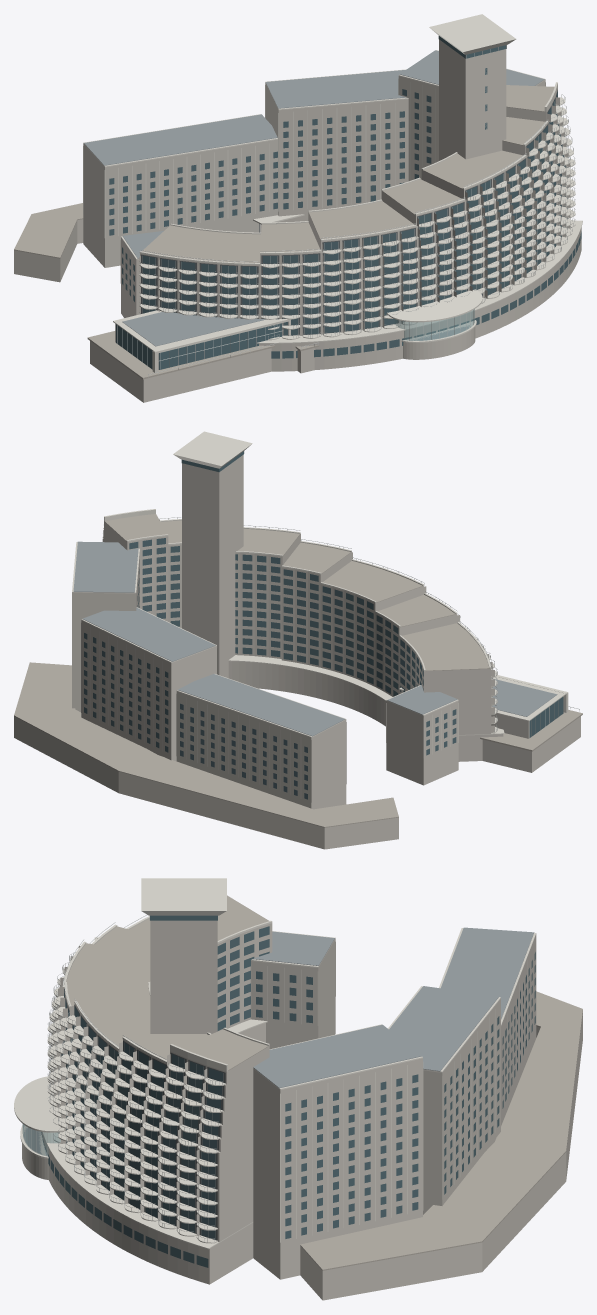
Rendered from hilton-tokyo-odaiba.glb.
3 views of the same model, one above another, from view 1: azimuth 30°, elevation 25°; view 2: azimuth 150°, elevation 25°; view 3: azimuth 270°, elevation 25° (orthographic). The views are drawn at different scales.
Parts seen in each view (by area): view 1: Main_Curved_Hotel | Pale balcony slab and crown, Main_Curved_Hotel | Opaque blue gray guest glazing, Long_Low_Return | Warm ivory facade, Main_Curved_Hotel | Terrace stone, Middle_Rear_Bend | Warm ivory facade, Main_Curved_Hotel | Warm ivory facade, Main_Curved_Hotel | Light railing and window frames, Symbol_Tower | Warm ivory facade, Main_Curved_Hotel | Recessed balcony shadow, Curved_Podium | Warm ivory facade, Low_Podium_and_Terraces | Warm ivory facade, Long_Low_Return | Gray roof metal (+24 smaller); view 2: Main_Curved_Hotel | Warm ivory facade, Rear_Low_Podium | Terrace stone, Long_Low_Return | Warm ivory facade, Symbol_Tower | Warm ivory facade, Main_Curved_Hotel | Opaque blue gray guest glazing, Main_Curved_Hotel | Terrace stone, Middle_Rear_Bend | Warm ivory facade, Rear_Low_Podium | Warm ivory facade, Short_Low_End_Junction | Warm ivory facade, Curved_Podium | Warm ivory facade, Long_Low_Return | Gray roof metal, Middle_Rear_Bend | Gray roof metal (+15 smaller); view 3: High_Rear_Junction | Warm ivory facade, Rear_Low_Podium | Terrace stone, Main_Curved_Hotel | Pale balcony slab and crown, Main_Curved_Hotel | Warm ivory facade, Main_Curved_Hotel | Opaque blue gray guest glazing, Main_Curved_Hotel | Terrace stone, Middle_Rear_Bend | Warm ivory facade, Rear_Low_Podium | Warm ivory facade, Symbol_Tower | Warm ivory facade, Curved_Podium | Warm ivory facade, Short_Low_End_Junction | Warm ivory facade, Main_Curved_Hotel | Light railing and window frames (+20 smaller).
Boxes of the visible parts, x1,y1,x2,y2 form: Main_Curved_Hotel | Pale balcony slab and crown: (139, 82, 575, 340); Main_Curved_Hotel | Opaque blue gray guest glazing: (142, 91, 567, 335); Long_Low_Return | Warm ivory facade: (83, 139, 277, 267); Main_Curved_Hotel | Terrace stone: (142, 85, 554, 262); Middle_Rear_Bend | Warm ivory facade: (265, 83, 408, 222); Main_Curved_Hotel | Warm ivory facade: (139, 88, 570, 335); Main_Curved_Hotel | Light railing and window frames: (139, 94, 575, 338); Symbol_Tower | Warm ivory facade: (439, 39, 506, 160); Main_Curved_Hotel | Recessed balcony shadow: (141, 90, 568, 335); Curved_Podium | Warm ivory facade: (259, 227, 581, 371); Low_Podium_and_Terraces | Warm ivory facade: (90, 324, 314, 402); Long_Low_Return | Gray roof metal: (84, 114, 277, 165); Main_Curved_Hotel | Warm ivory facade: (102, 521, 494, 734); Rear_Low_Podium | Terrace stone: (14, 662, 398, 827); Long_Low_Return | Warm ivory facade: (176, 691, 346, 809); Symbol_Tower | Warm ivory facade: (182, 455, 243, 678); Main_Curved_Hotel | Opaque blue gray guest glazing: (129, 538, 423, 696); Main_Curved_Hotel | Terrace stone: (104, 514, 489, 670); Middle_Rear_Bend | Warm ivory facade: (81, 620, 216, 761); Rear_Low_Podium | Warm ivory facade: (14, 716, 398, 849); Short_Low_End_Junction | Warm ivory facade: (386, 701, 458, 785); Curved_Podium | Warm ivory facade: (228, 661, 503, 761); Long_Low_Return | Gray roof metal: (178, 674, 344, 736); Middle_Rear_Bend | Gray roof metal: (82, 608, 215, 661); High_Rear_Junction | Warm ivory facade: (253, 1058, 422, 1279); Rear_Low_Podium | Terrace stone: (300, 991, 582, 1270); Main_Curved_Hotel | Pale balcony slab and crown: (47, 916, 272, 1243); Main_Curved_Hotel | Warm ivory facade: (52, 923, 272, 1241); Main_Curved_Hotel | Opaque blue gray guest glazing: (59, 926, 269, 1239); Main_Curved_Hotel | Terrace stone: (66, 895, 268, 1070); Middle_Rear_Bend | Warm ivory facade: (423, 999, 500, 1214); Rear_Low_Podium | Warm ivory facade: (300, 1011, 582, 1300); Symbol_Tower | Warm ivory facade: (150, 920, 217, 1033); Curved_Podium | Warm ivory facade: (42, 1023, 265, 1284); Short_Low_End_Junction | Warm ivory facade: (251, 939, 335, 1049); Main_Curved_Hotel | Light railing and window frames: (47, 914, 223, 1241).
Bounding box in the file's own units: 176 × 83.35 × 136.
